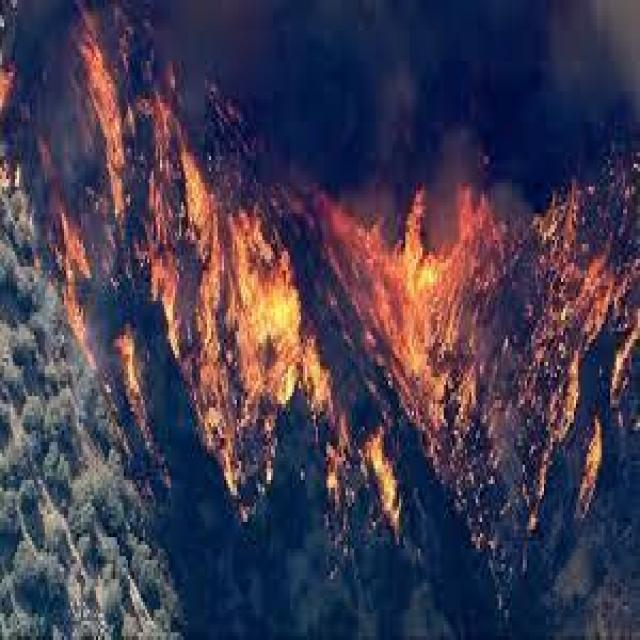Fire: (73, 135, 496, 498)
